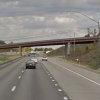Bridge: (5, 31, 93, 55)
